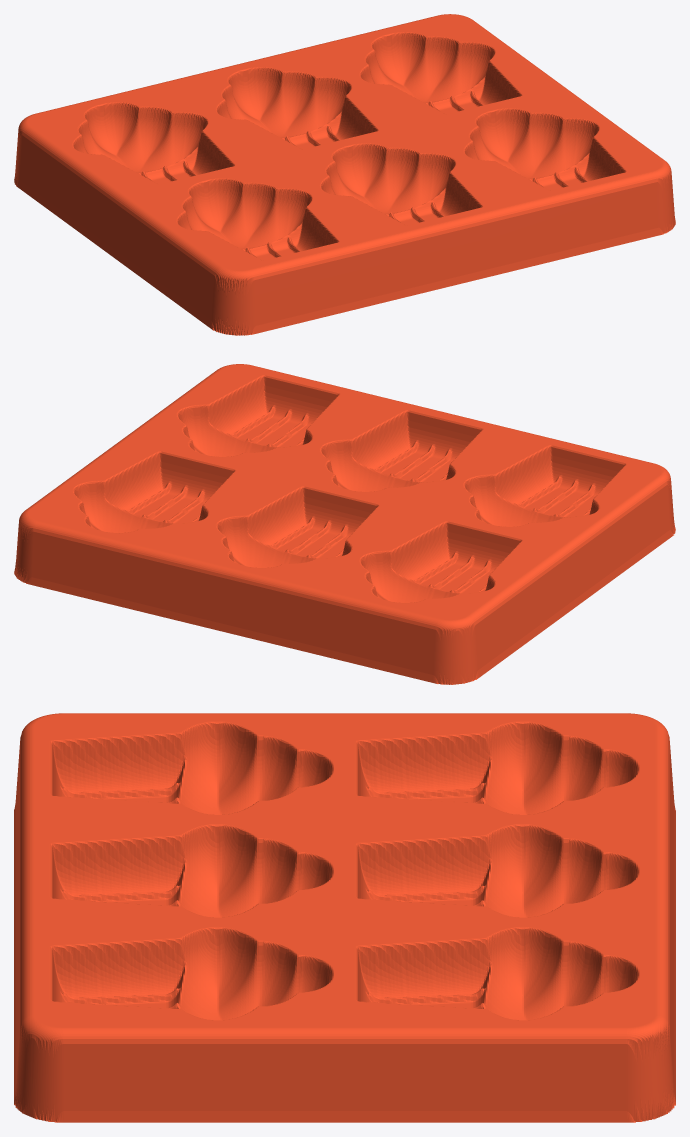
File: mold.glb
3 views of the same model, one above another, from view 1: azimuth 30°, elevation 25°; view 2: azimuth 150°, elevation 25°; view 3: azimuth 270°, elevation 25° (orthographic). The views are drawn at different scales.
Visible parts, largest first — view 1: geometry_0; view 2: geometry_0; view 3: geometry_0.
Boxes of the visible parts, left/top/right/bottom form: geometry_0: left=14, top=14, right=675, bottom=335; geometry_0: left=14, top=364, right=675, bottom=684; geometry_0: left=14, top=713, right=675, bottom=1122.
Size of the model in its own units: 0.1428 by 0.0175 by 0.1211.
